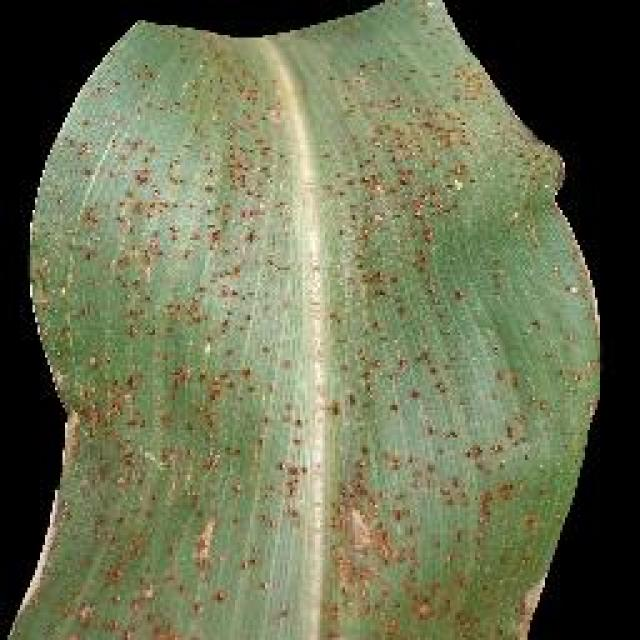Corn Common Rust: (70, 114, 528, 608)
